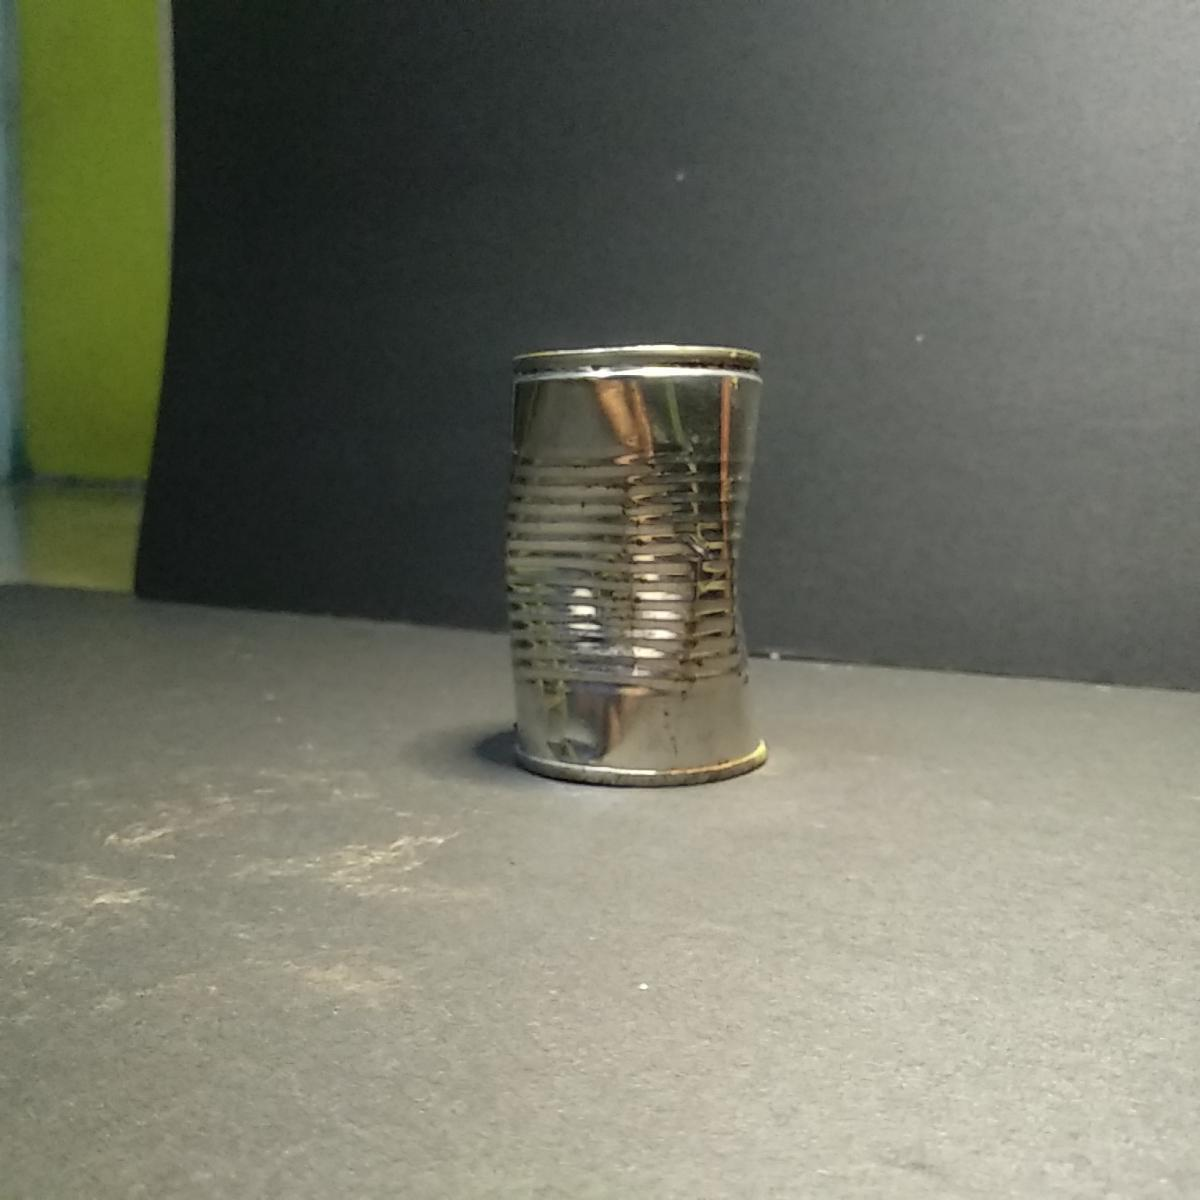Dented: (498, 334, 778, 800)
